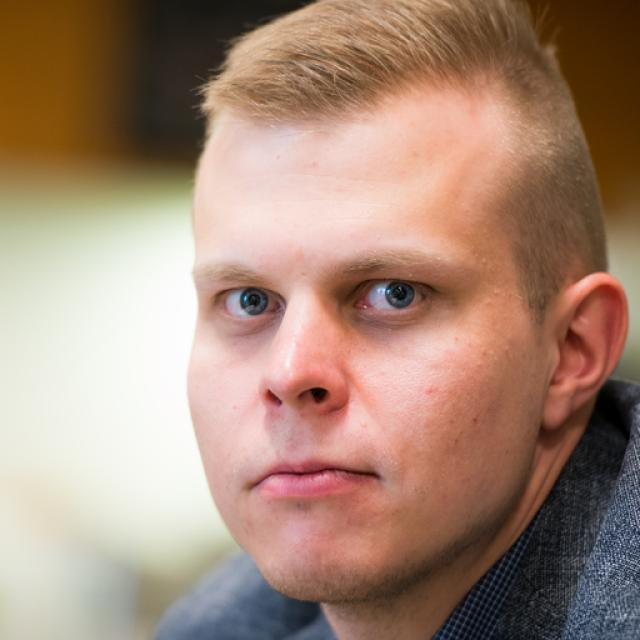anger: (187, 88, 544, 596)
